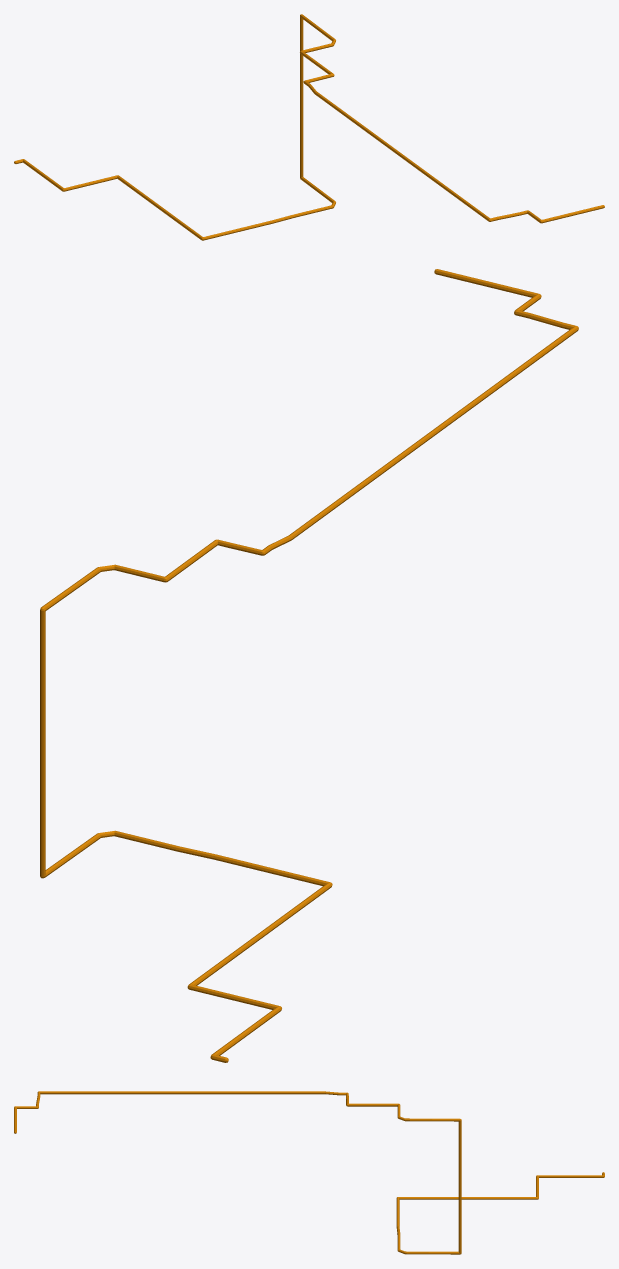
The picture shows the model from 3 angles, top to bottom: view 1: azimuth 30°, elevation 25°; view 2: azimuth 150°, elevation 25°; view 3: azimuth 270°, elevation 25°; orthographic projection. The views are drawn at different scales.
Bounding box in the file's own units: 1503 × 1020 × 4027.
